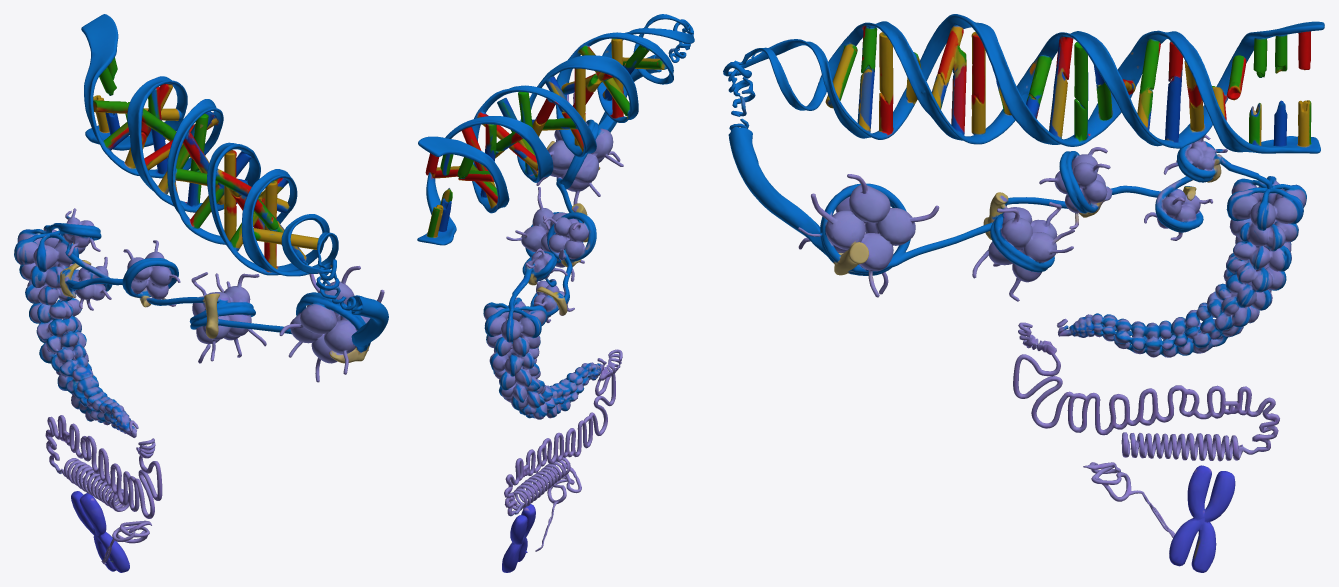
Rendered from eukaryotic_chromosome.glb.
3 views of the same model, side by side, from view 1: azimuth 30°, elevation 25°; view 2: azimuth 150°, elevation 25°; view 3: azimuth 270°, elevation 25° (orthographic). The views are drawn at different scales.
Visible parts, largest first — view 1: tripo_node_fd2905a8-18cd-4fcb-9a78-51ee0279923a; view 2: tripo_node_fd2905a8-18cd-4fcb-9a78-51ee0279923a; view 3: tripo_node_fd2905a8-18cd-4fcb-9a78-51ee0279923a.
Boxes of the visible parts, x1,y1,x2,y2 form: tripo_node_fd2905a8-18cd-4fcb-9a78-51ee0279923a: (14, 14, 388, 572); tripo_node_fd2905a8-18cd-4fcb-9a78-51ee0279923a: (417, 14, 694, 572); tripo_node_fd2905a8-18cd-4fcb-9a78-51ee0279923a: (723, 14, 1324, 572).
Size of the model in its own units: 0.37 by 1 by 0.9543.
Materials: 1 (1 with a texture image).
